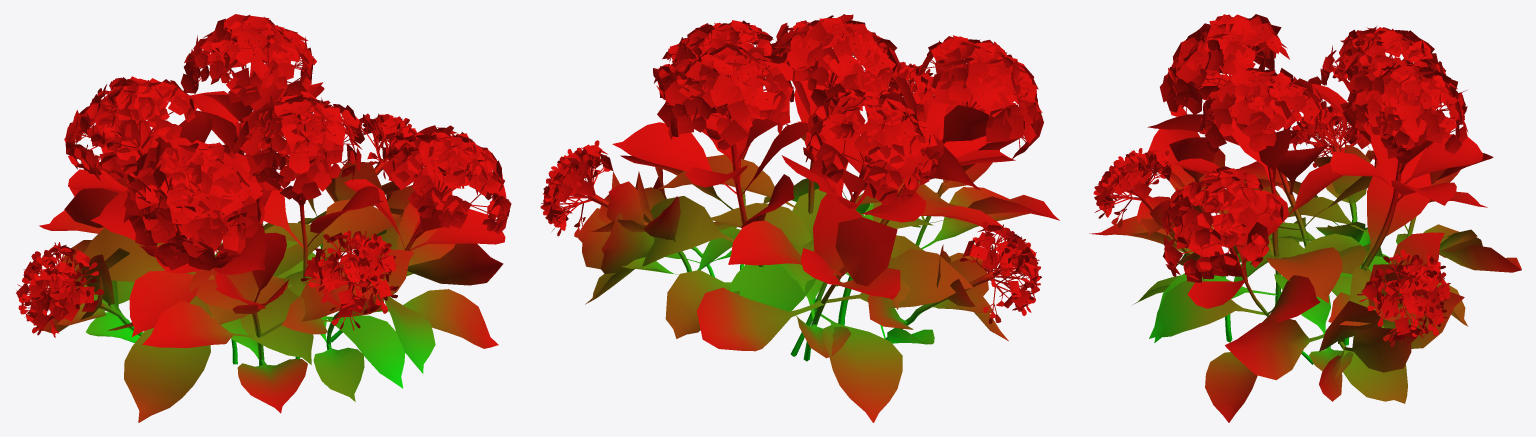
The model's file is Var9_LOD2.fbx.
3 renders of one model, left to right at view 1: azimuth 30°, elevation 25°; view 2: azimuth 150°, elevation 25°; view 3: azimuth 270°, elevation 25°, orthographic. The views are drawn at different scales.
Parts seen in each view (by area): view 1: _i3su_Var9_LOD2; view 2: _i3su_Var9_LOD2; view 3: _i3su_Var9_LOD2.
Part boxes in pixels (x1,y1,x2,y2): _i3su_Var9_LOD2: [16, 14, 511, 422]; _i3su_Var9_LOD2: [540, 14, 1059, 422]; _i3su_Var9_LOD2: [1089, 14, 1521, 422].
Bounding box in the file's own units: 54.42 × 35.91 × 48.18.
